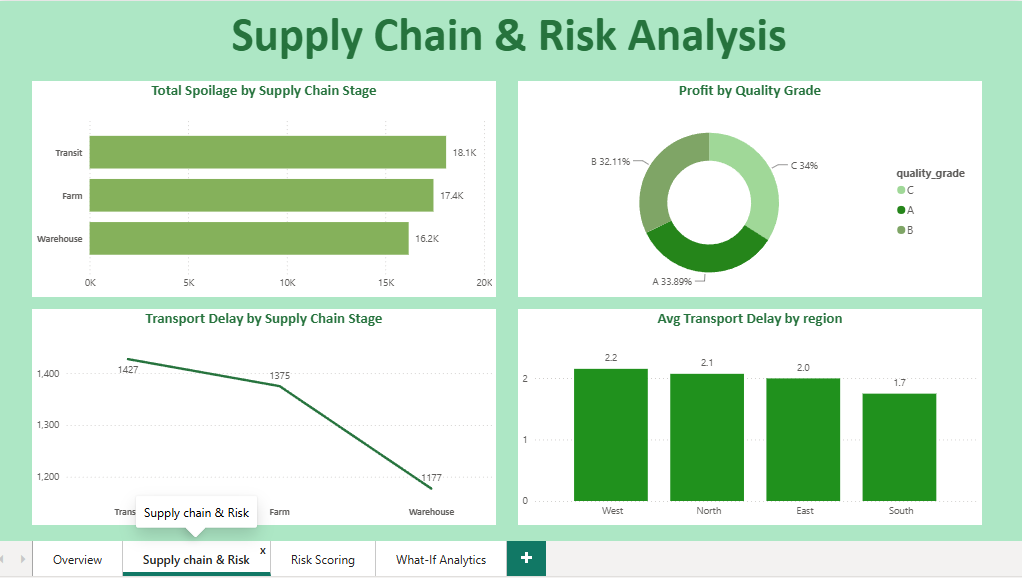

The page's visual inventory and layout, read from the dashboard file:
{"tool":"powerbi","page":{"name":"Supply chain & Risk","canvas":[1280,720],"ordinal":1},"visuals":[{"type":"textbox","box":[11,0,1255.2,85.3],"z":0},{"type":"clusteredBarChart","title":"Total Spoilage by Supply Chain Stage","fields":{"Category":["agri_supplychain_cleaned.supply_chain_stage"],"Y":["agri_supplychain_cleaned.Total Spoilage"]},"box":[42.5,100,580,270],"z":6000},{"type":"clusteredColumnChart","fields":{"Category":["agri_supplychain_cleaned.region"],"Y":["agri_supplychain_cleaned.Avg Transport Delay"]},"box":[650,385,580,270],"z":7000},{"type":"lineChart","title":"Transport Delay by Supply Chain Stage","fields":{"Category":["agri_supplychain_cleaned.supply_chain_stage"],"Y":["Sum(agri_supplychain_cleaned.transport_delay_hours)"]},"box":[42.5,385,580,270],"z":8000},{"type":"donutChart","title":"Profit by Quality Grade","fields":{"Category":["agri_supplychain_cleaned.quality_grade"],"Y":["Sum(agri_supplychain_cleaned.estimated_profit)"]},"box":[650,100,580,270],"z":9000}]}

Visuals, with their boxes on the page's 1280x720 design canvas (x1, y1, x2, y2). These are canvas units, not pixel positions in the 1022x578 screenshot, which may show the page scaled, cropped or inside an application window:
textbox: Rect(11, 0, 1266, 85)
"Total Spoilage by Supply Chain Stage" clusteredBarChart: Rect(42, 100, 622, 370)
clusteredColumnChart - agri_supplychain_cleaned.region x agri_supplychain_cleaned.Avg Transport Delay: Rect(650, 385, 1230, 655)
"Transport Delay by Supply Chain Stage" lineChart: Rect(42, 385, 622, 655)
"Profit by Quality Grade" donutChart: Rect(650, 100, 1230, 370)
